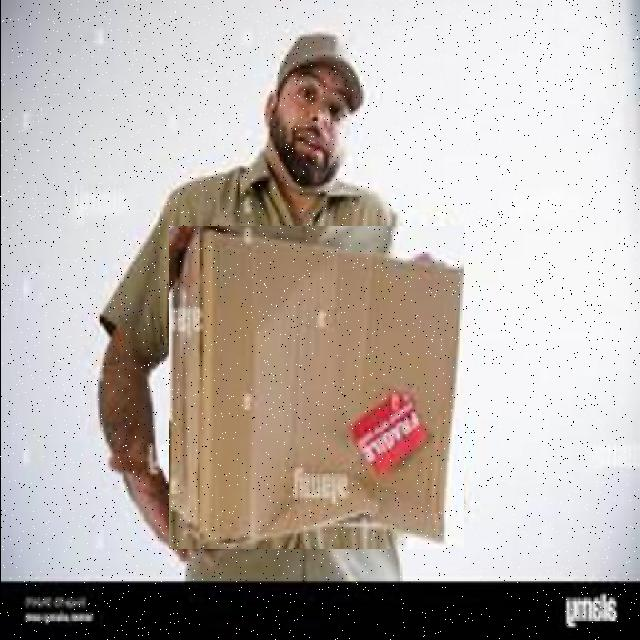normal: (168, 226, 463, 549)
